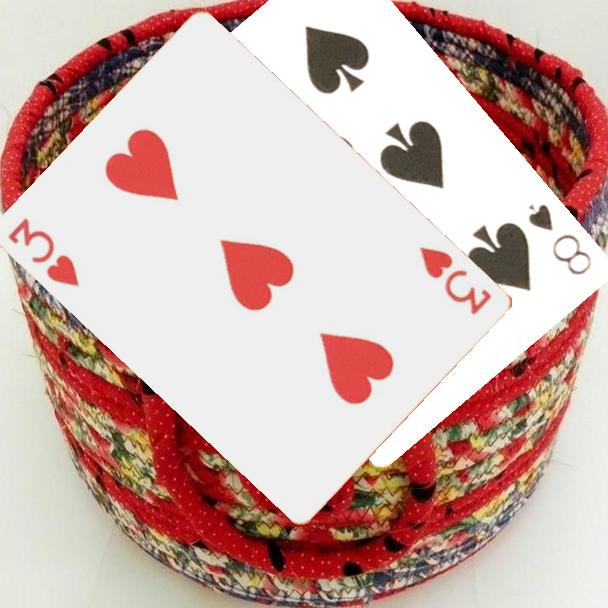h03: (4, 214, 83, 290), (416, 243, 495, 318)
s08: (525, 200, 596, 279)
